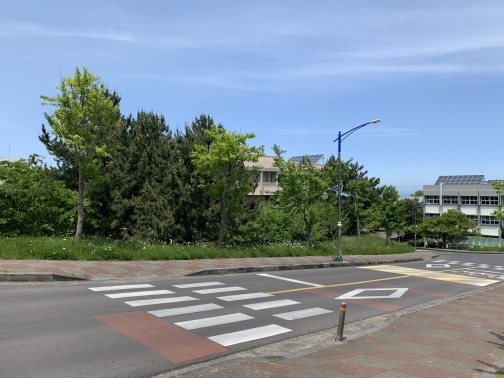College Of Education: (237, 148, 340, 212)
